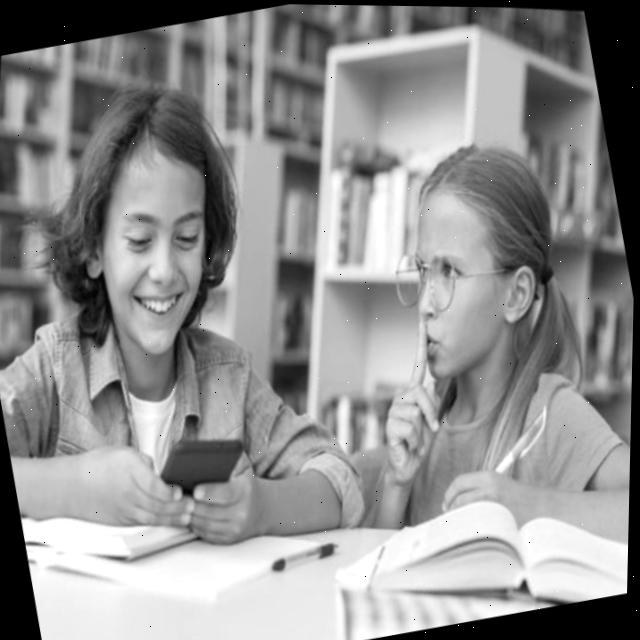phone: (151, 418, 259, 512)
